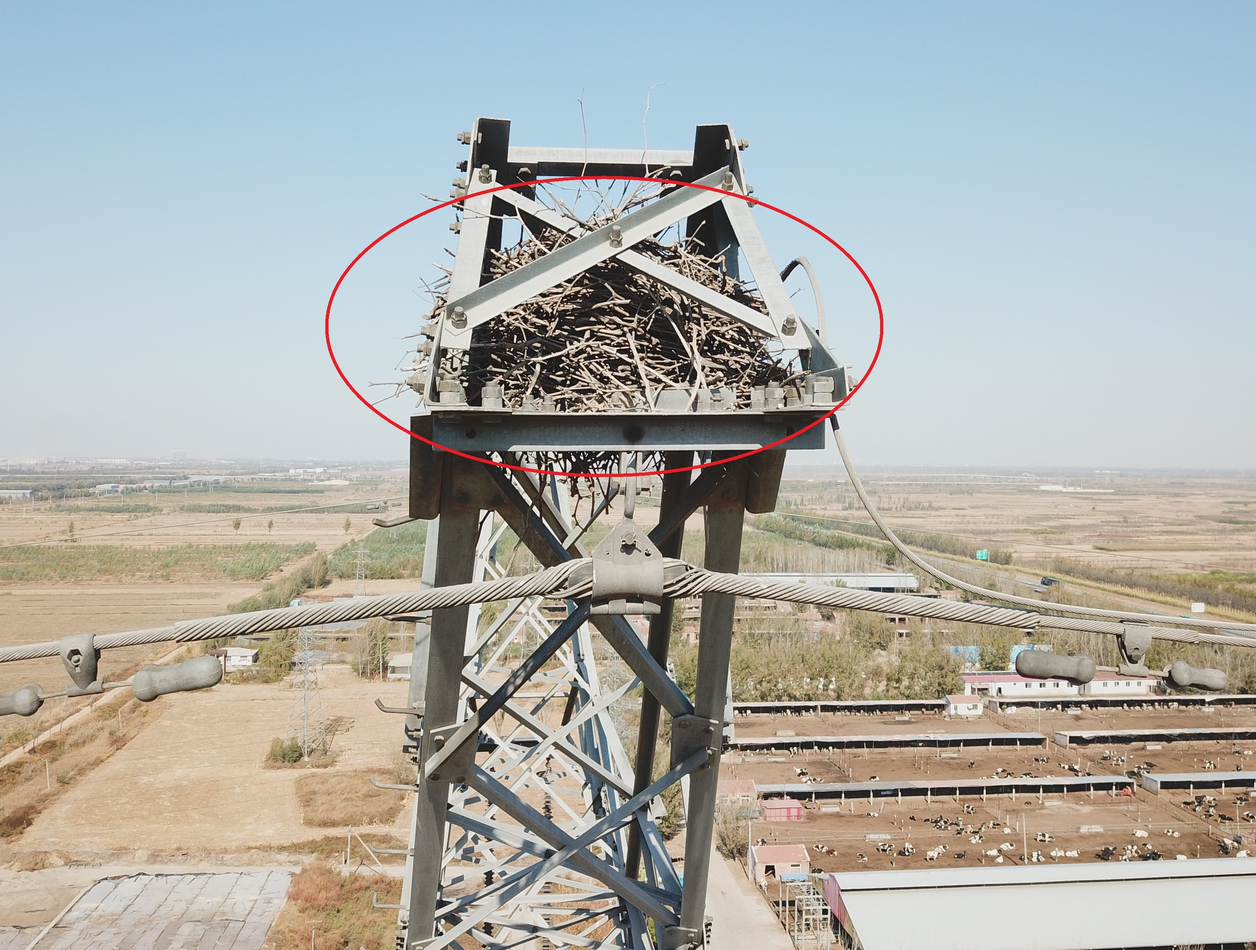damper: (0, 625, 233, 722), (1007, 611, 1237, 701)
